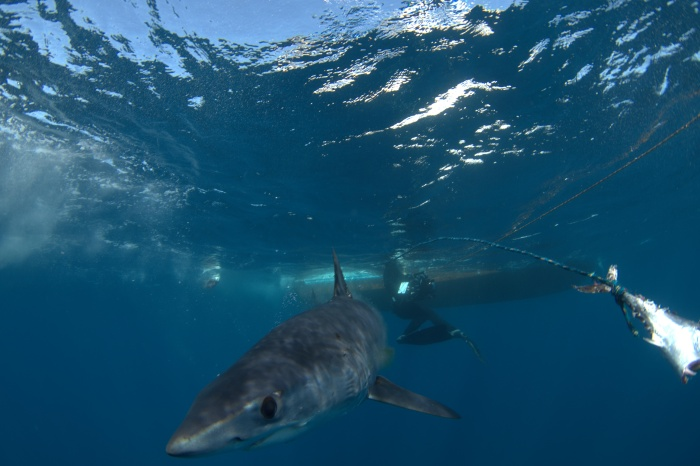Mako: (139, 248, 476, 462)
